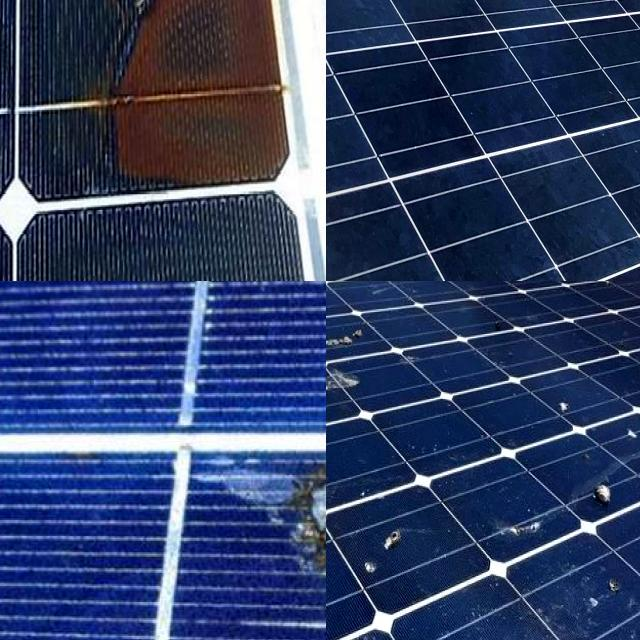bird: (340, 524, 434, 592), (472, 486, 558, 560), (566, 454, 640, 531), (566, 562, 640, 634), (492, 281, 532, 351), (550, 386, 594, 426), (326, 319, 377, 351), (326, 370, 380, 398), (611, 409, 640, 448), (594, 281, 637, 304)
dust: (367, 178, 640, 281), (473, 0, 640, 160), (326, 0, 440, 147)
shadow: (77, 0, 293, 202), (249, 442, 326, 640)
